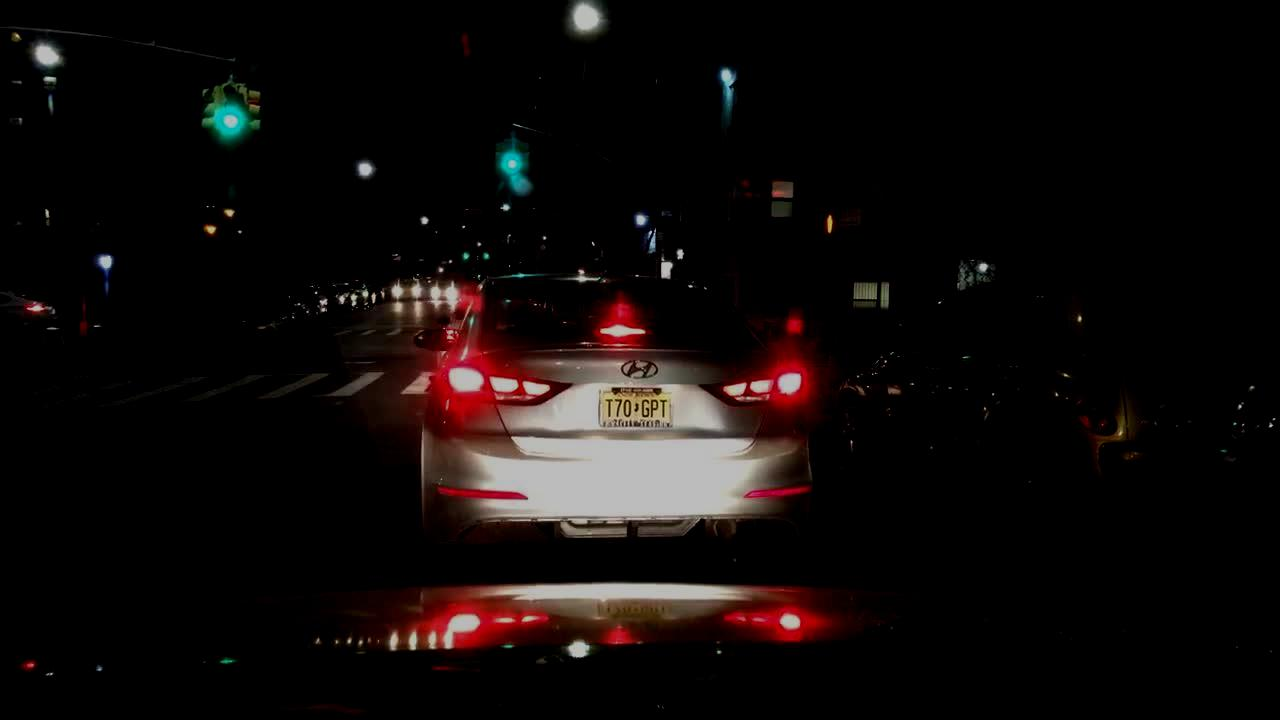Hyundai: (617, 354, 661, 384)
